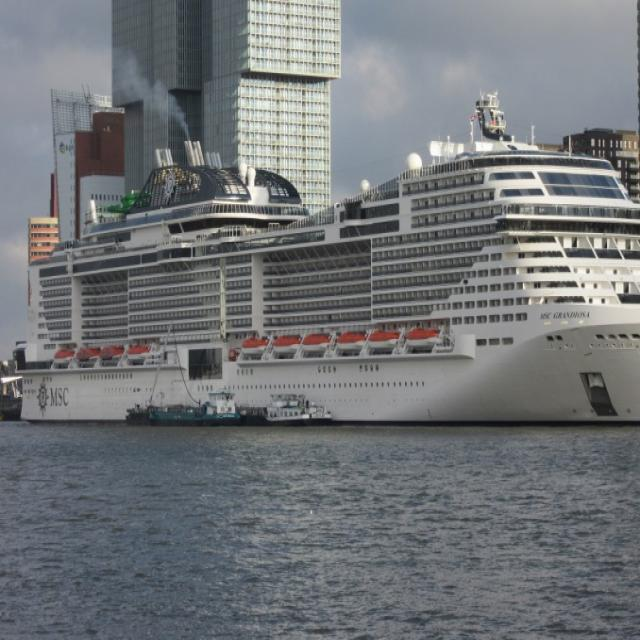cruises: (20, 87, 640, 437)
